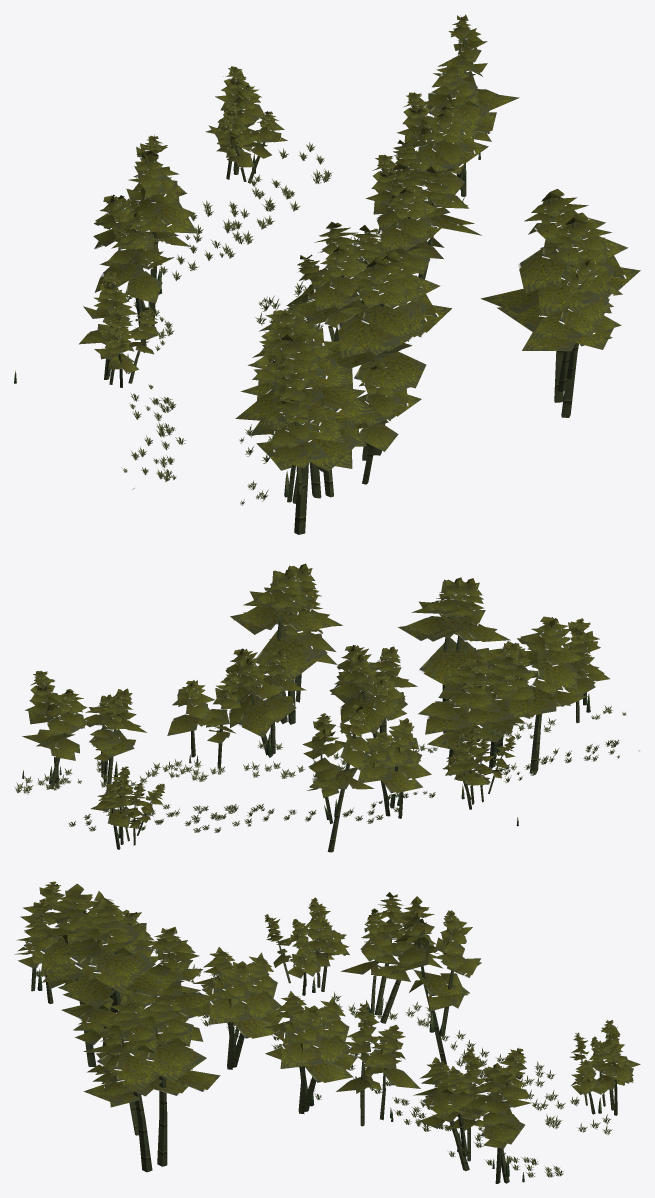
File: tree07.fbx
3 views of the same model, one above another, from view 1: azimuth 30°, elevation 25°; view 2: azimuth 150°, elevation 25°; view 3: azimuth 270°, elevation 25° (orthographic). The views are drawn at different scales.
Parts seen in each view (by area): view 1: tree07; view 2: tree07; view 3: tree07.
Part boxes in pixels (bbox=[...]): tree07: bbox=[14, 14, 640, 534]; tree07: bbox=[14, 563, 639, 852]; tree07: bbox=[14, 881, 640, 1183].
Bounding box in the file's own units: 5932 × 2309 × 6335.
